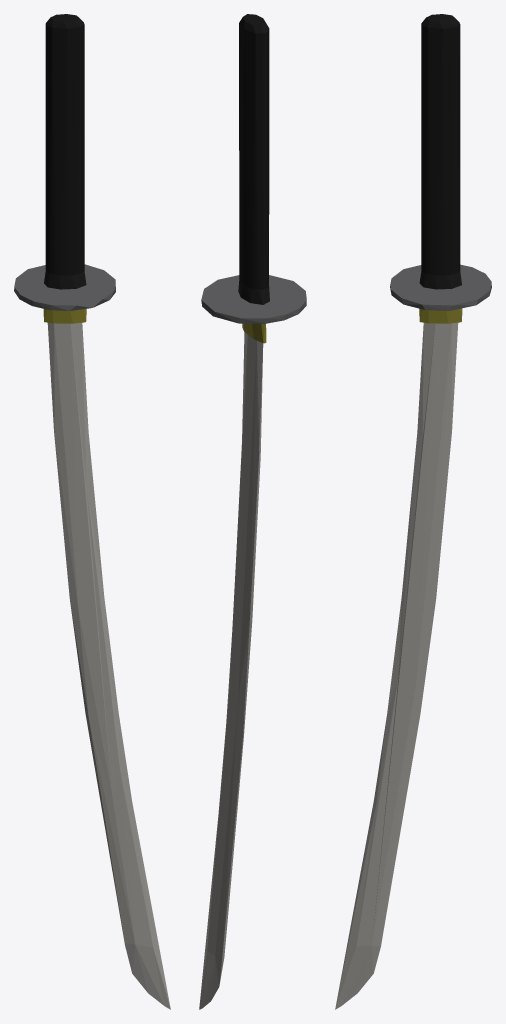
File: Katana1.fbx
3 views of the same model, side by side, from view 1: azimuth 90°, elevation 25°; view 2: azimuth 210°, elevation 25°; view 3: azimuth 270°, elevation 25° (orthographic). The views are drawn at different scales.
Visible parts, largest first — view 1: Katana; view 2: Katana; view 3: Katana.
Boxes of the visible parts, x1,y1,x2,y2 form: Katana: [14, 14, 170, 1009]; Katana: [199, 14, 306, 1009]; Katana: [335, 14, 491, 1009].
Bounding box in the file's own units: 16.25 × 113 × 10.56.
